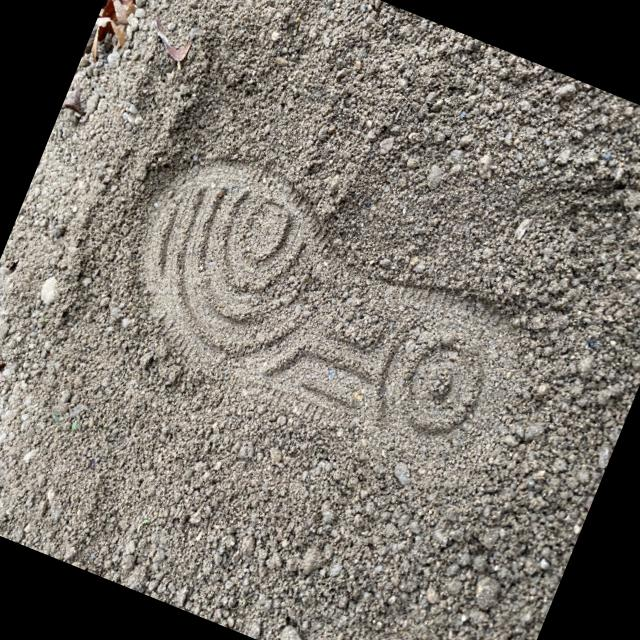human_foot_print: (96, 79, 570, 526)
